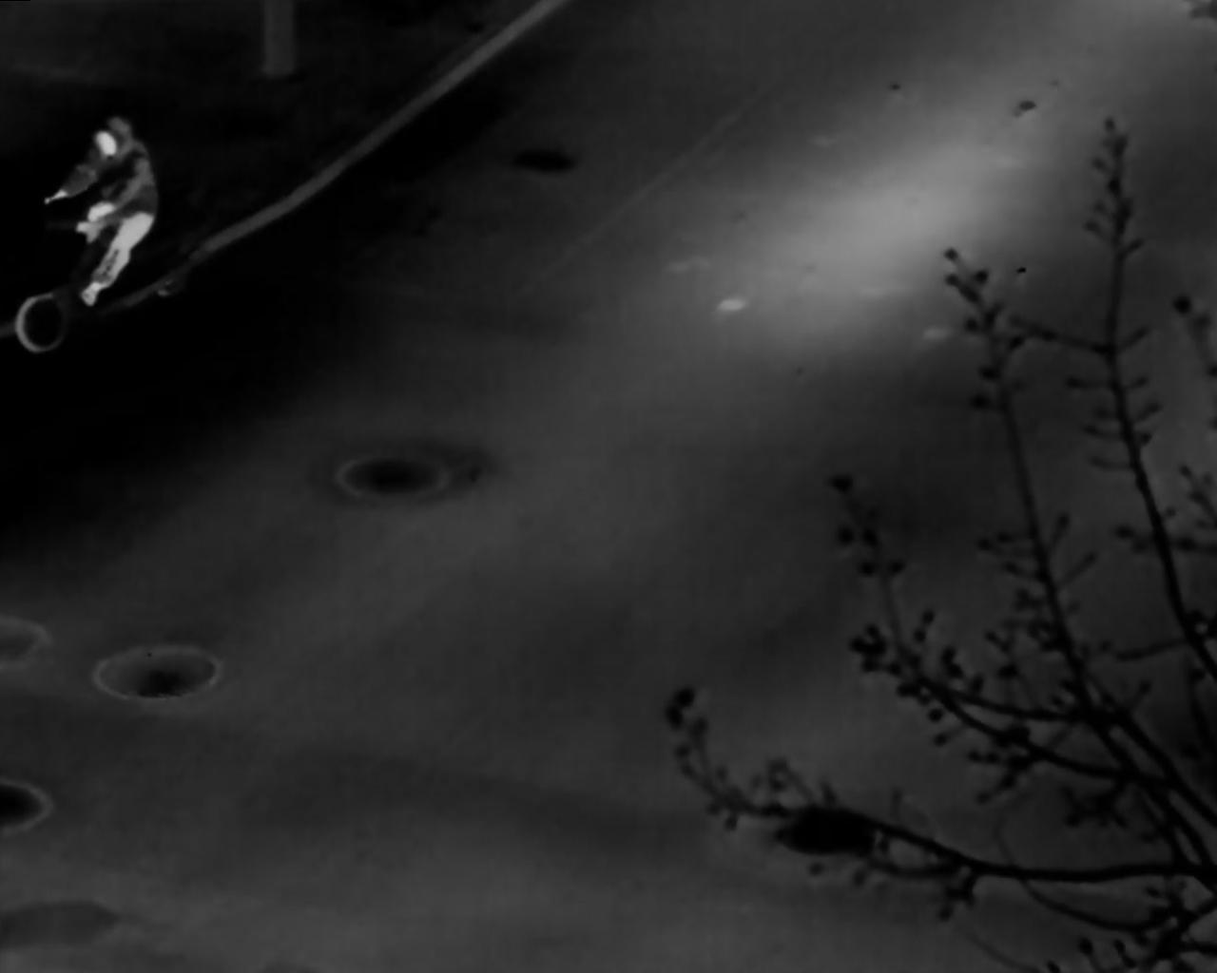person: (40, 117, 159, 307)
